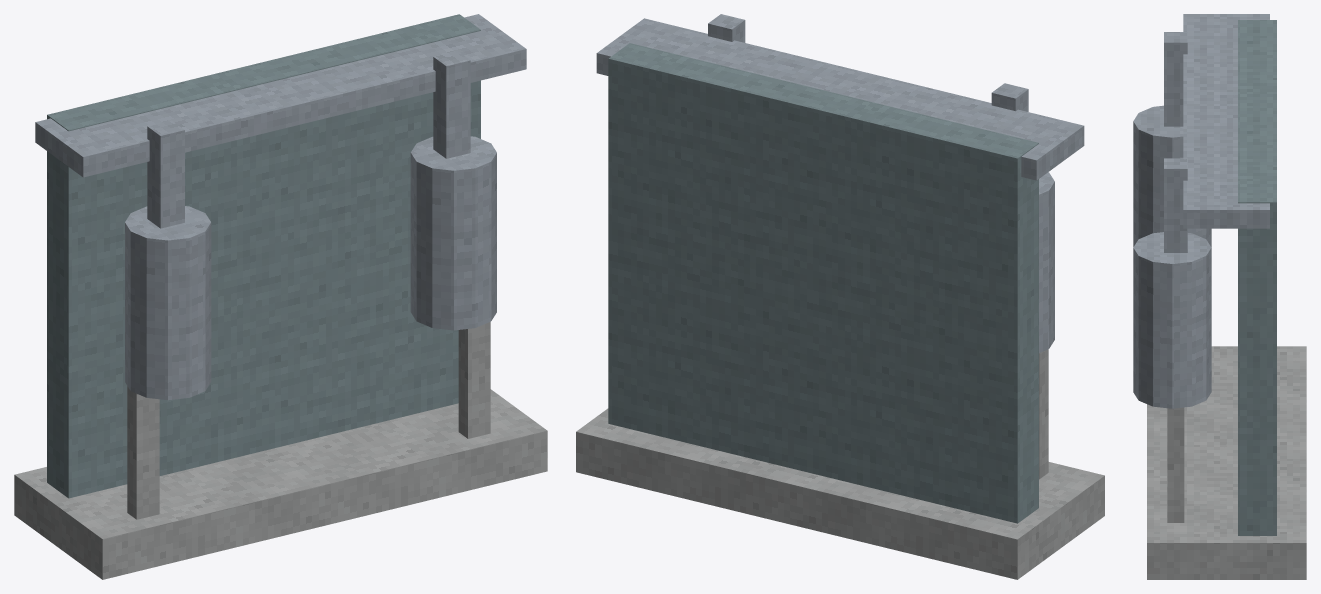
File: level_blockout_dam_spillway_actuator.glb
The picture shows the model from 3 angles, left to right: view 1: azimuth 30°, elevation 25°; view 2: azimuth 150°, elevation 25°; view 3: azimuth 270°, elevation 25°; orthographic projection. The views are drawn at different scales.
Visible parts, largest first — view 1: level_blockout_dam_spillway_actuator; view 2: level_blockout_dam_spillway_actuator; view 3: level_blockout_dam_spillway_actuator.
Part boxes in pixels (x1,y1,x2,y2): level_blockout_dam_spillway_actuator: [14, 14, 547, 579]; level_blockout_dam_spillway_actuator: [576, 14, 1104, 579]; level_blockout_dam_spillway_actuator: [1133, 14, 1306, 579].
Size of the model in its own units: 2.74 by 2.47 by 1.02.
Materials: 3 (3 with a texture image).
